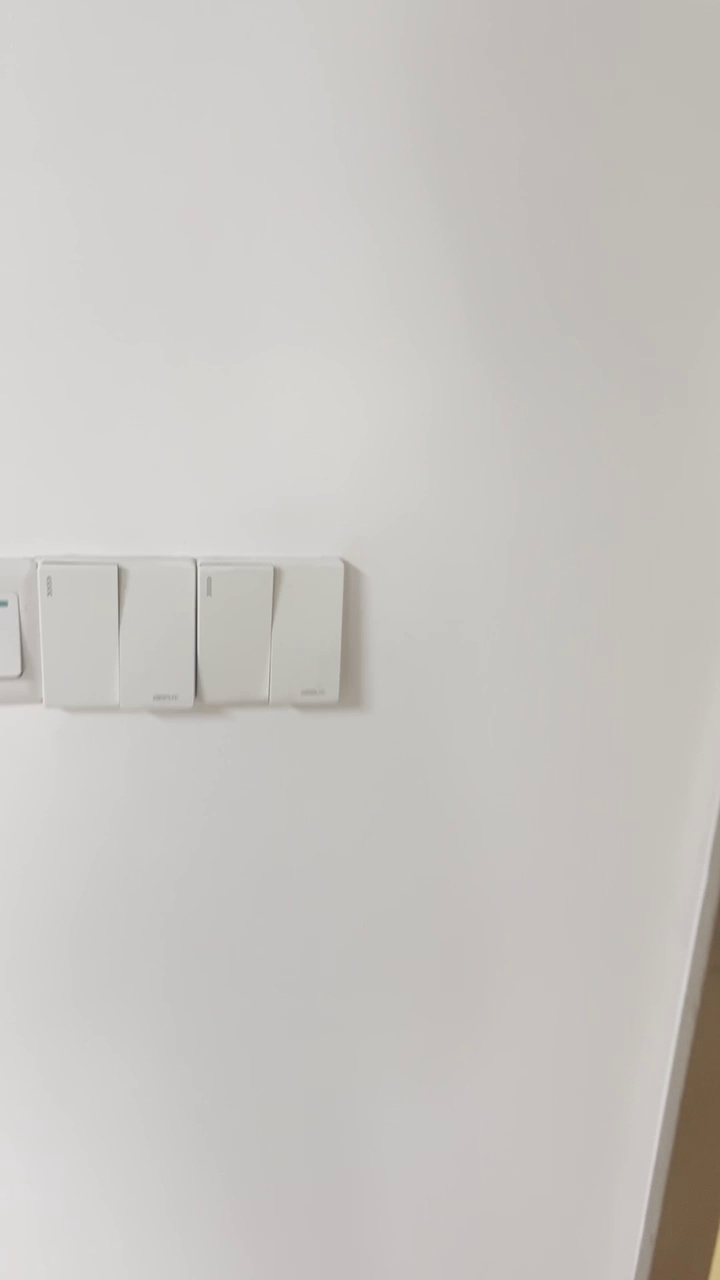button: (38, 555, 197, 709), (196, 556, 346, 709)
